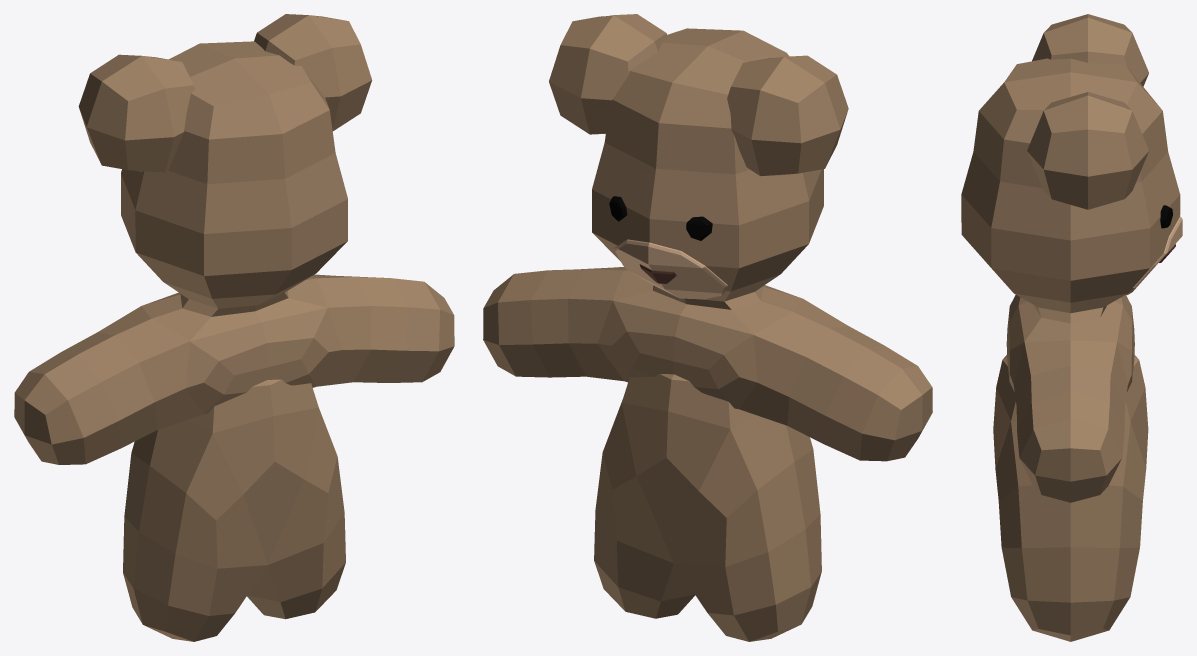
The model's file is osito.fbx.
The picture shows the model from 3 angles, left to right: view 1: azimuth 30°, elevation 25°; view 2: azimuth 150°, elevation 25°; view 3: azimuth 270°, elevation 25°; orthographic projection. The views are drawn at different scales.
Parts seen in each view (by area): view 1: Cube.009; view 2: Cube.009; view 3: Cube.009.
Boxes of the visible parts, left/top/right/bottom form: Cube.009: left=14, top=14, right=454, bottom=641; Cube.009: left=483, top=14, right=932, bottom=641; Cube.009: left=961, top=14, right=1182, bottom=641.
Size of the model in its own units: 198 by 262 by 94.35.
